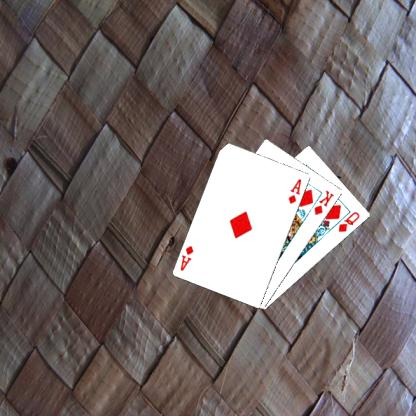AD: (180, 243, 198, 272), (288, 176, 304, 206)
KD: (314, 187, 337, 216)
QD: (338, 209, 363, 233)
